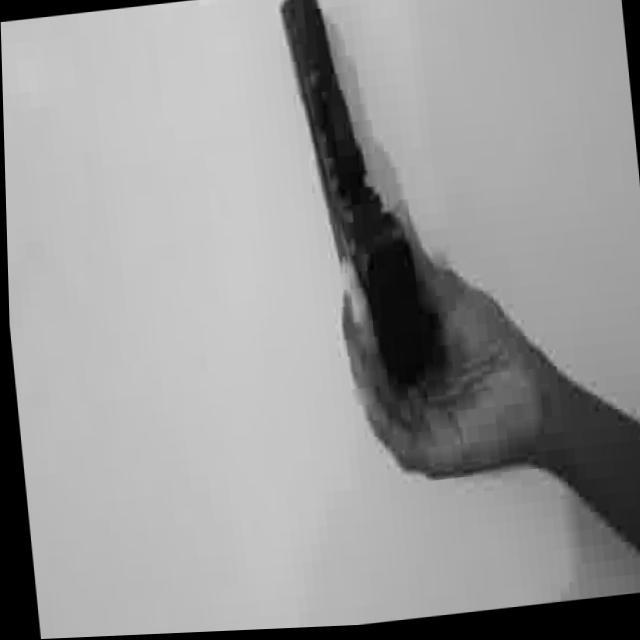weapon: (275, 0, 438, 405)
